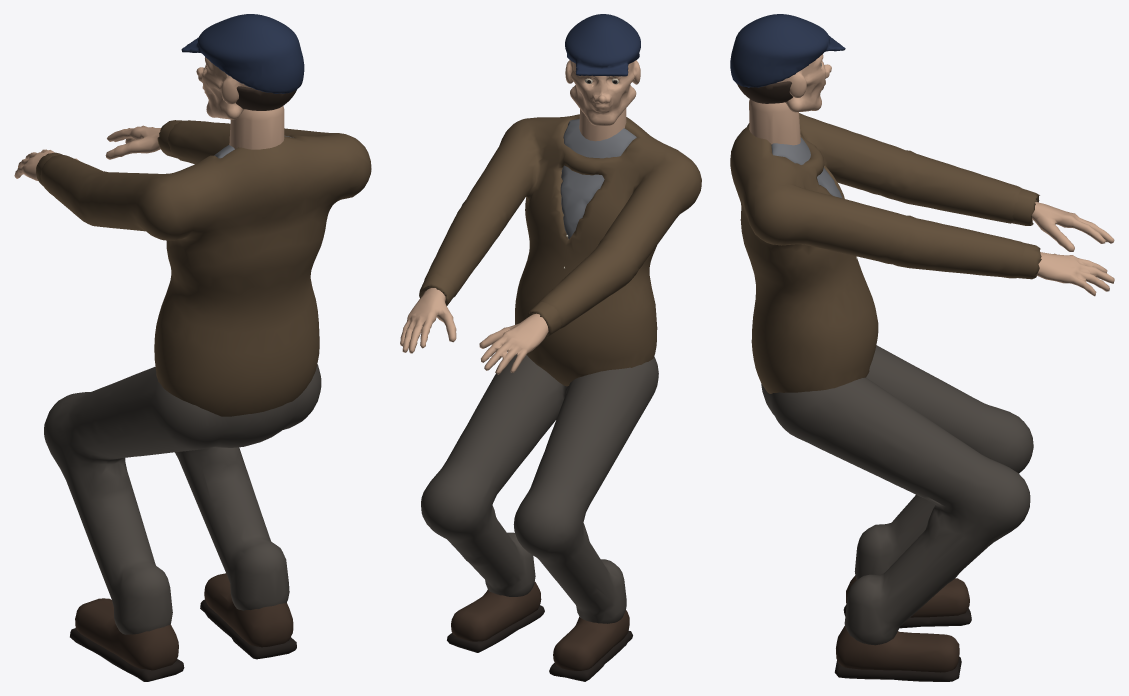
The model's file is endbar.glb.
3 renders of one model, left to right at view 1: azimuth 30°, elevation 25°; view 2: azimuth 150°, elevation 25°; view 3: azimuth 270°, elevation 25°, orthographic. The views are drawn at different scales.
Parts seen in each view (by area): view 1: endbar_body, endbar_head, endbar_hands; view 2: endbar_body, endbar_head, endbar_hands; view 3: endbar_body, endbar_head, endbar_hands.
Part boxes in pixels (x1=…): endbar_body: x1=40, y1=106, x2=371, y2=681; endbar_head: x1=181, y1=14, x2=304, y2=119; endbar_hands: x1=14, y1=120, x2=185, y2=185; endbar_body: x1=421, y1=108, x2=701, y2=681; endbar_head: x1=565, y1=14, x2=640, y2=125; endbar_hands: x1=400, y1=273, x2=561, y2=374; endbar_body: x1=730, y1=99, x2=1033, y2=681; endbar_head: x1=730, y1=14, x2=845, y2=112; endbar_hands: x1=1012, y1=188, x2=1114, y2=296.
Size of the model in its own units: 0.4828 by 1.4 by 0.774.
